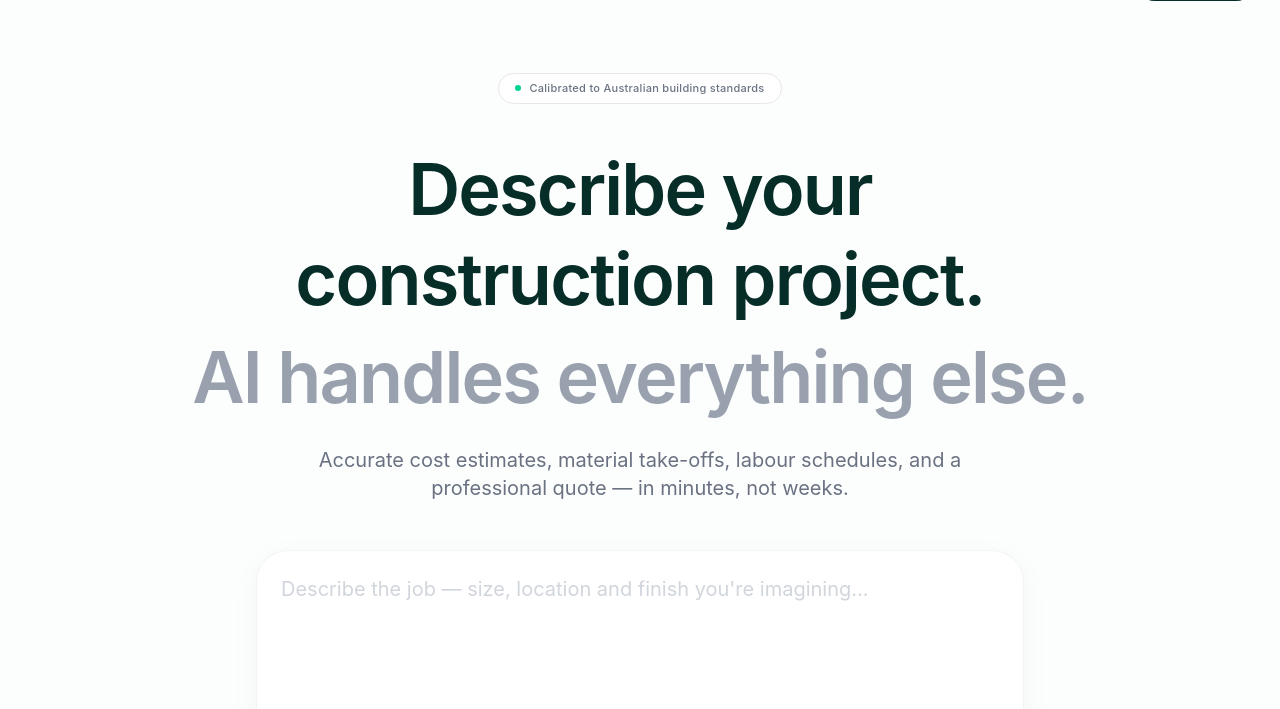
Scenario: Home › sends More options as a normal chip value
The width and height of the screenshot is (1280, 709).
Step 1. Type "I need my bathroom tiled" into the text box named "describe your construction project" → (640, 634), box [281,574,999,694]
(page scrolled)
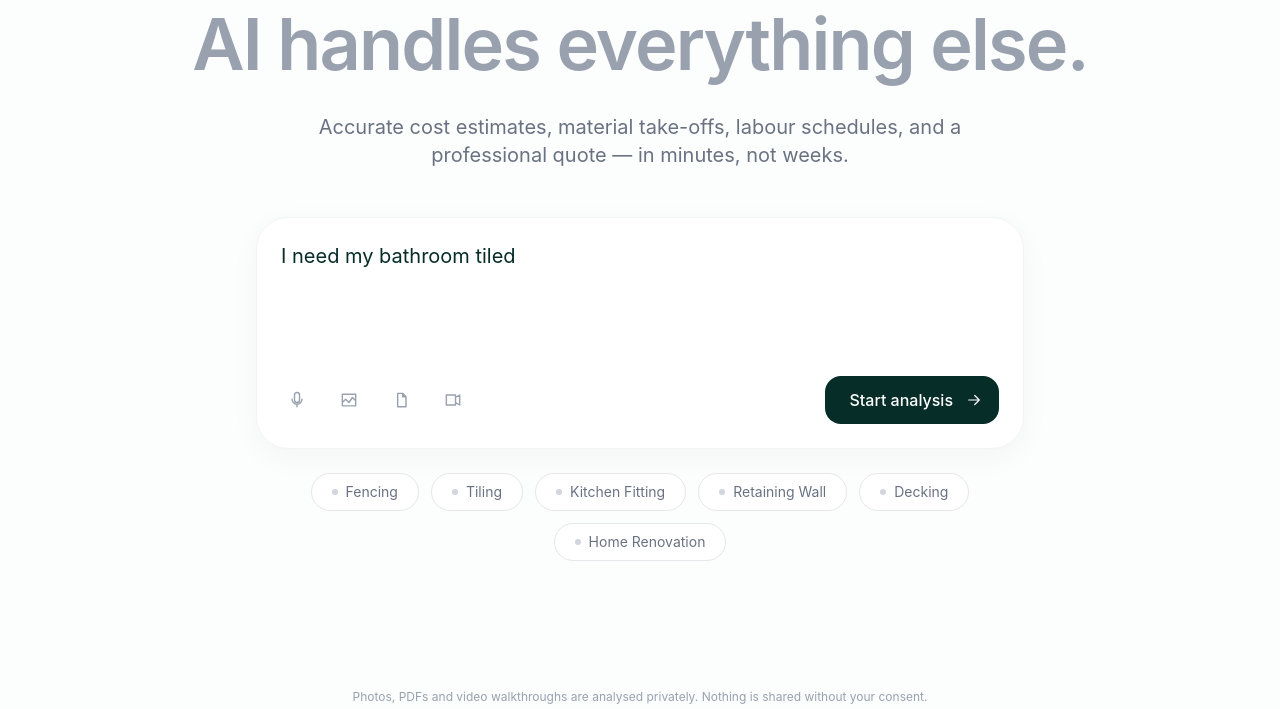
Step 2. Click the button "Start analysis" → click(912, 400), box [826,376,999,424]
(page scrolled)
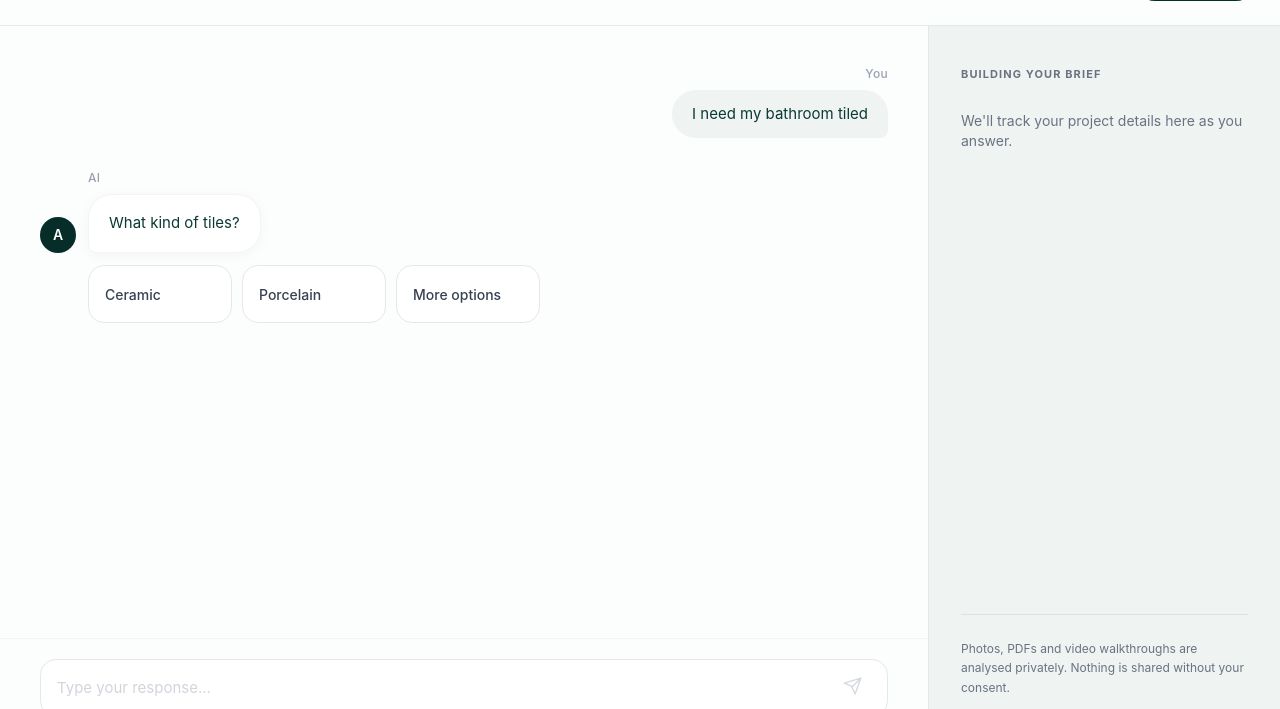
Now the button "More options" is shown
Step 3. Click the button "More options" → click(468, 294), box [396,265,540,323]
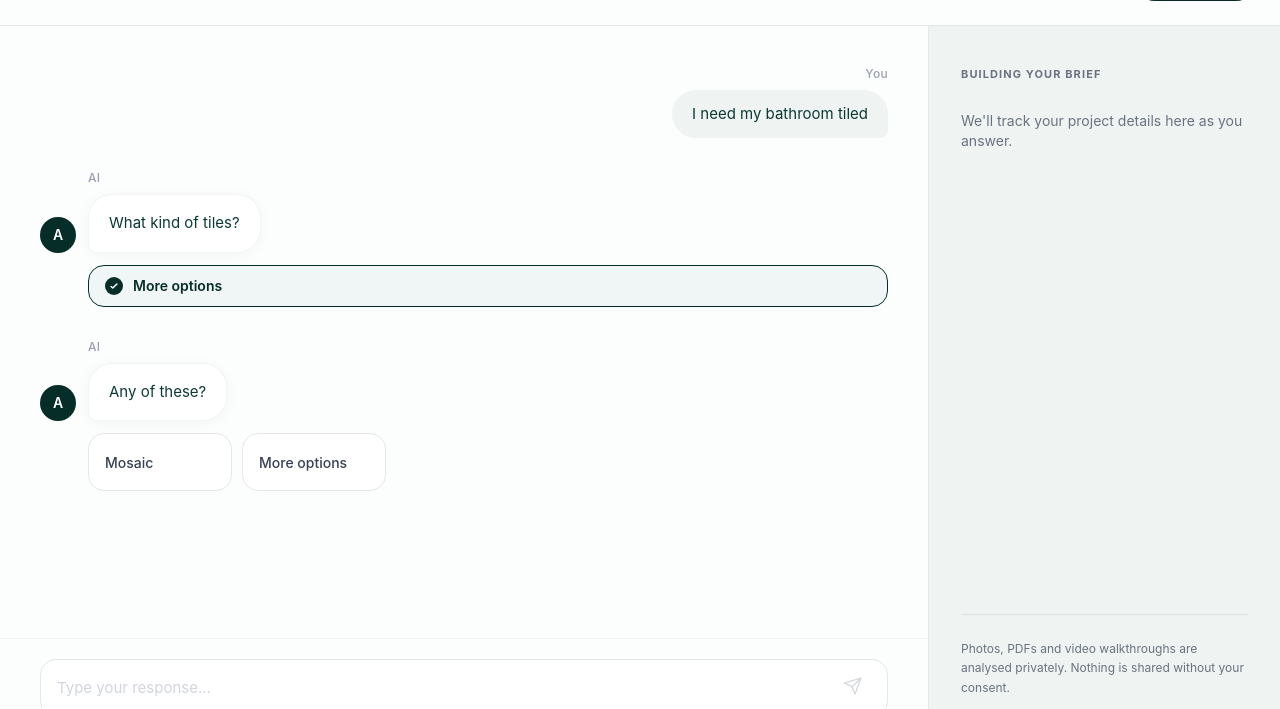
Now the button "Mosaic" is shown, box [88,433,232,491]
